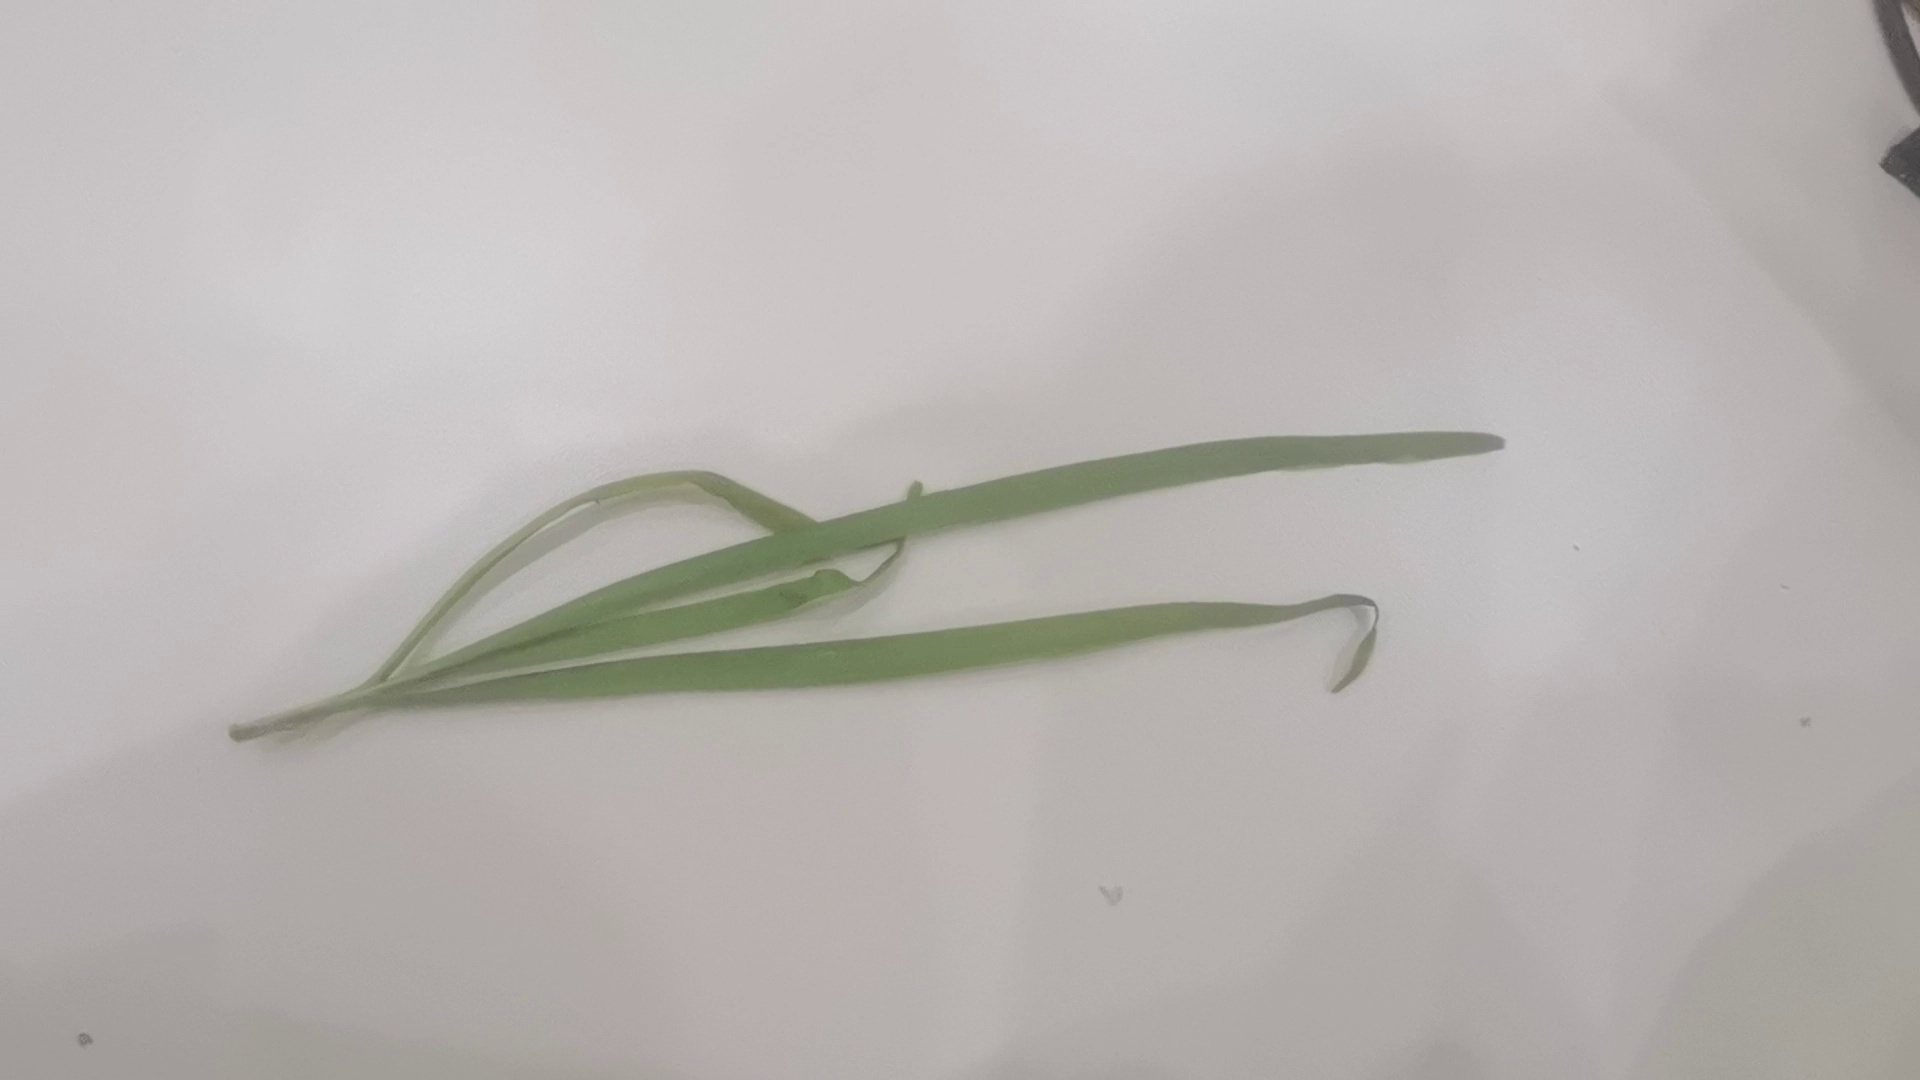chives: (195, 398, 1526, 841)
